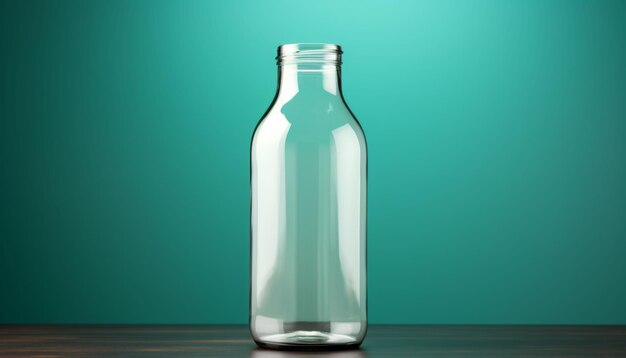glass_bottle: (240, 38, 378, 351)
